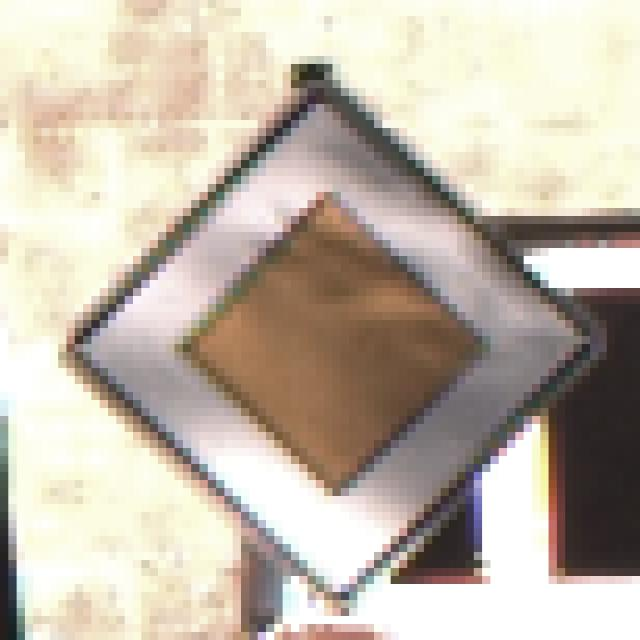Main Road: (59, 65, 591, 585)
